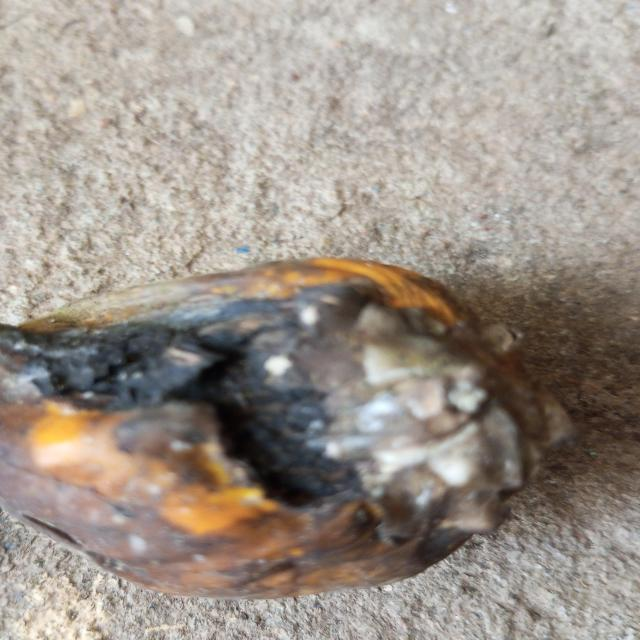damaged: (0, 257, 574, 603)
